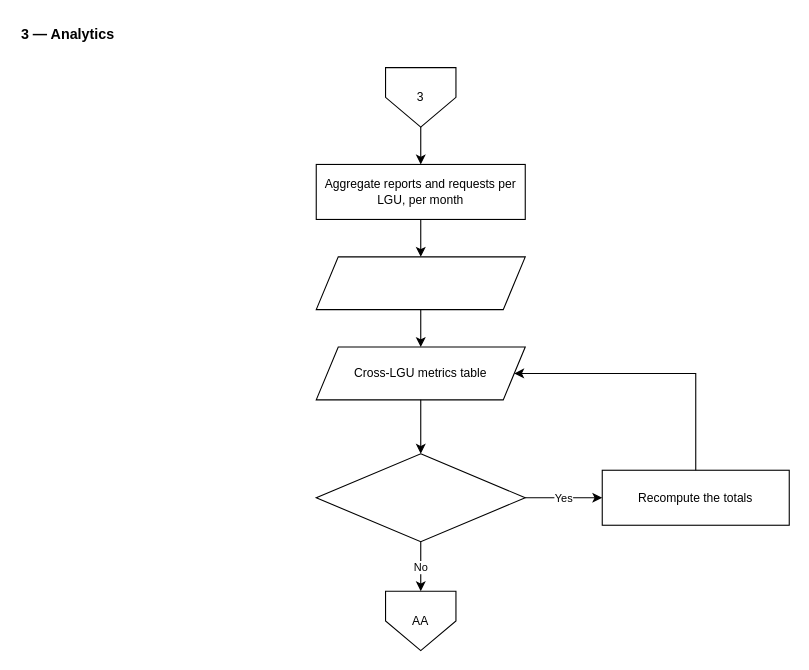
Some shapes in this 809 by 670 pixel diagram are drawn without their labels. The shapes that lost their labels are listed below. From the top down, each one's centre as x and y in pixels, then its label:
the point at 420,283: Reports vs. Requests over time
the point at 420,497: Change the period or metric?
